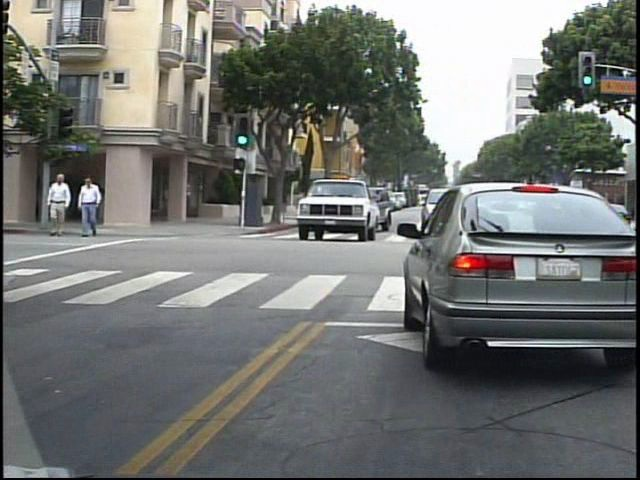person: (52, 170, 82, 241), (82, 174, 111, 241)
